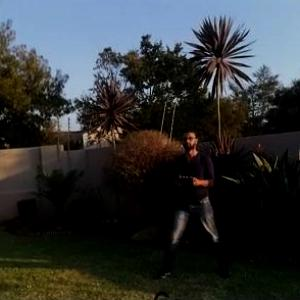follow: (156, 121, 238, 282)
